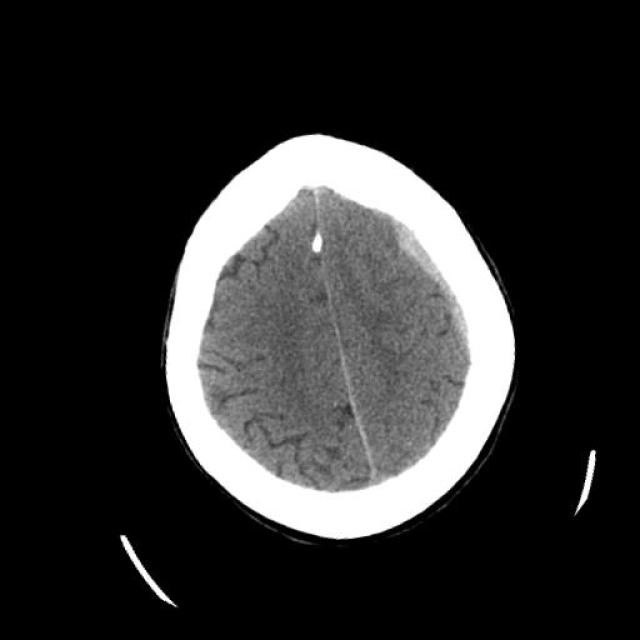Subdural: (363, 193, 493, 431)
